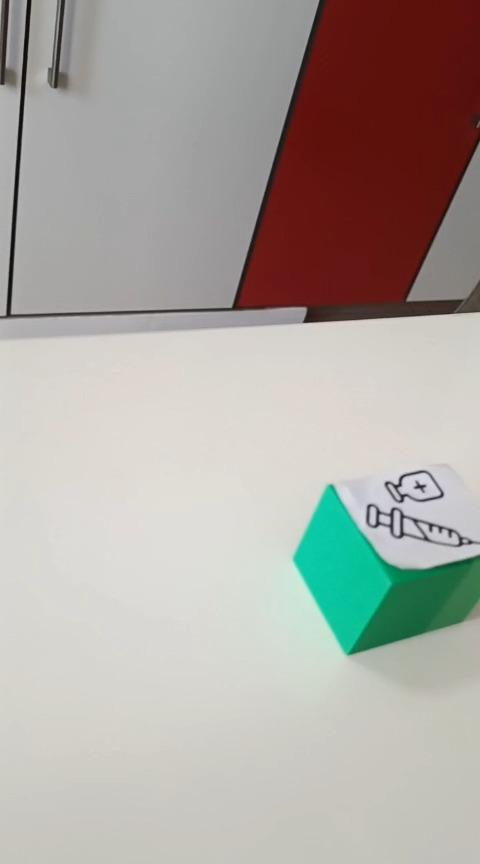antiseptic cream: (291, 461, 478, 656)
